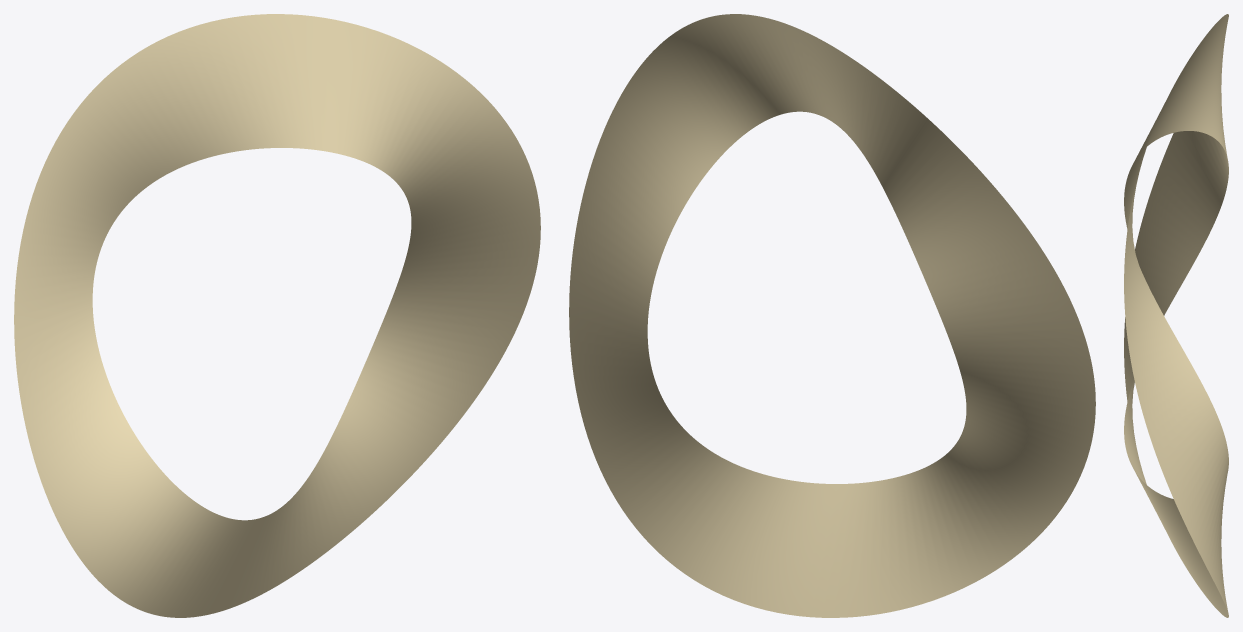
File: ribbon-loop.glb
3 views of the same model, side by side, from view 1: azimuth 30°, elevation 25°; view 2: azimuth 150°, elevation 25°; view 3: azimuth 270°, elevation 25° (orthographic). The views are drawn at different scales.
Parts seen in each view (by area): view 1: ribbon-0; view 2: ribbon-0; view 3: ribbon-0.
Boxes of the visible parts, box(x1,y1,x2,y2) form: ribbon-0: box(14, 14, 540, 617); ribbon-0: box(569, 14, 1095, 617); ribbon-0: box(1124, 14, 1228, 617).
Size of the model in its own units: 2.52 by 2.72 by 0.4665.
